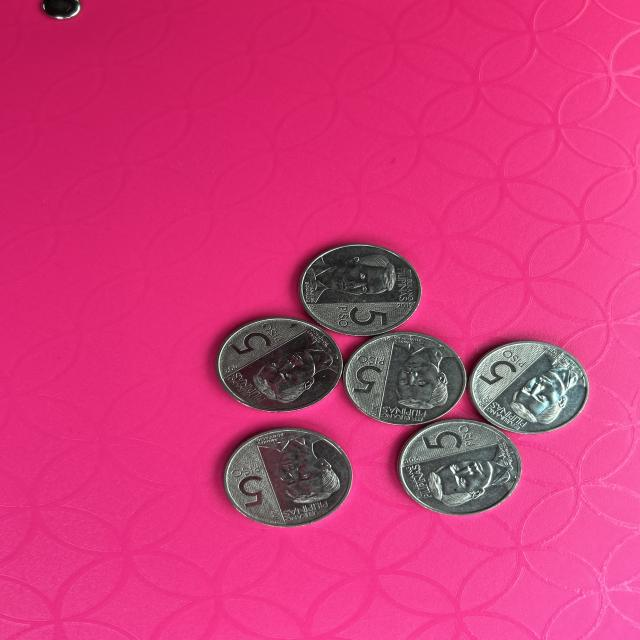5_New_Front: (327, 298, 393, 337), (226, 461, 273, 514), (468, 347, 526, 388), (416, 422, 480, 458), (225, 321, 290, 354), (350, 350, 384, 398)
